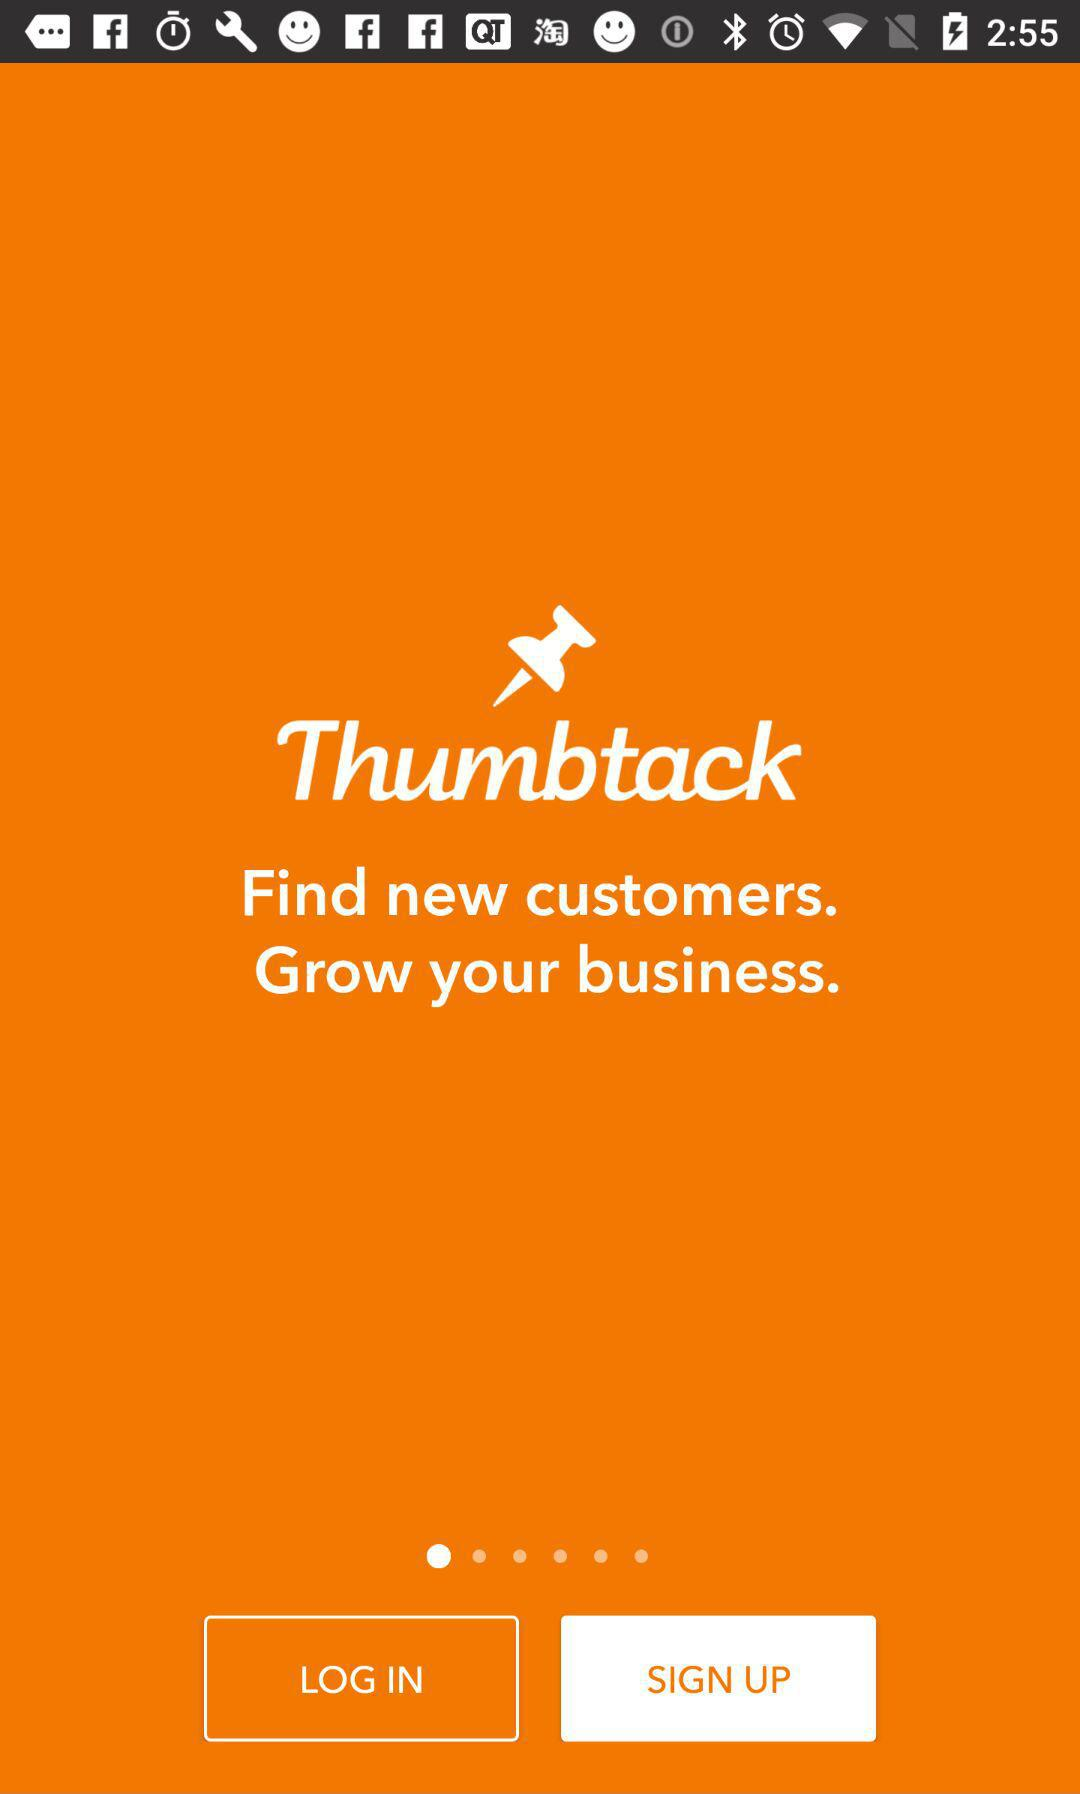Image: (277, 600, 805, 806)
PageIndicator: (424, 1542, 651, 1571)
Text: (243, 865, 840, 1010)
TextButton: (560, 1615, 878, 1743), (204, 1615, 520, 1743)
UpperTaskBar: (1, 1, 1080, 64)
